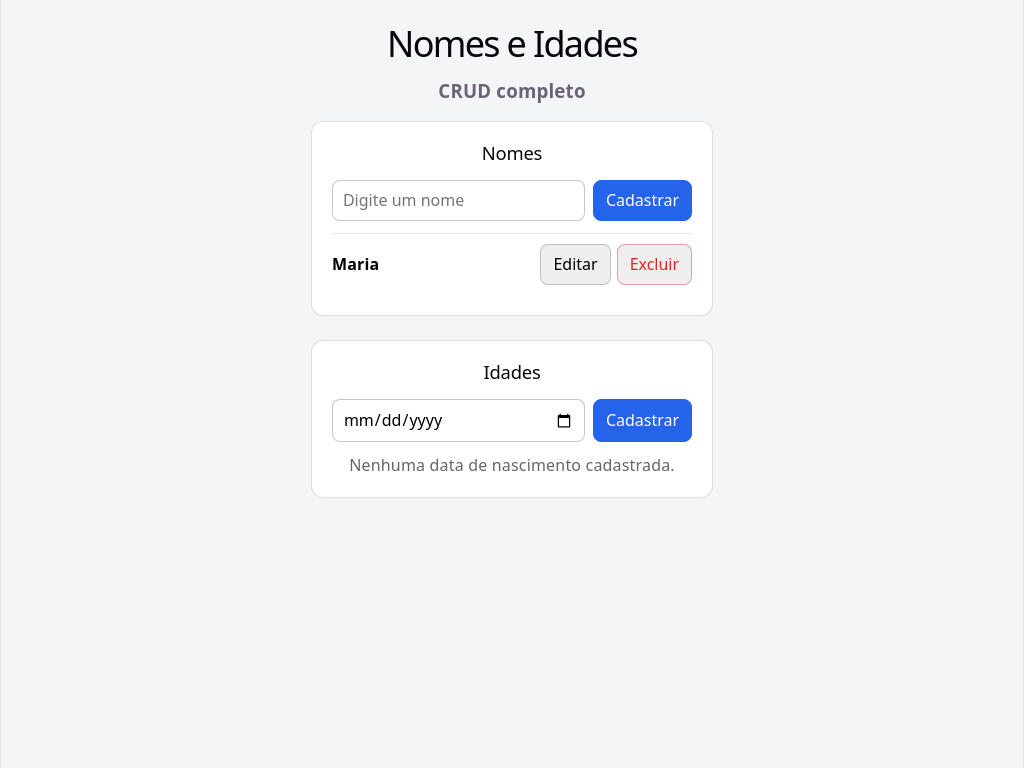
Scenario: nomes (CRUD) › edita um nome
Expected: the text "Maria" is shown, [332,253,379,276]
Step 1. Click the button "Editar" → (576, 265), box [540,244,611,285]
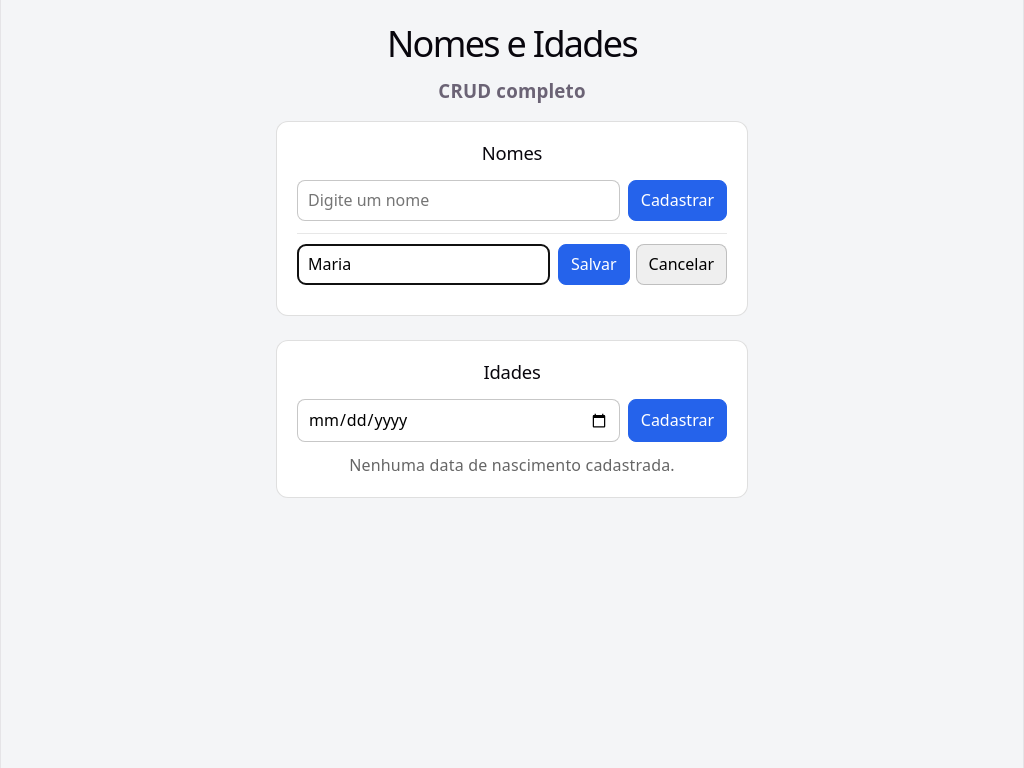
Now the field named "Editar valor" holds "Maria"
Step 2. Replace the text in the field named "Editar valor" with "Mariana" → (424, 265), box [297,244,550,285]
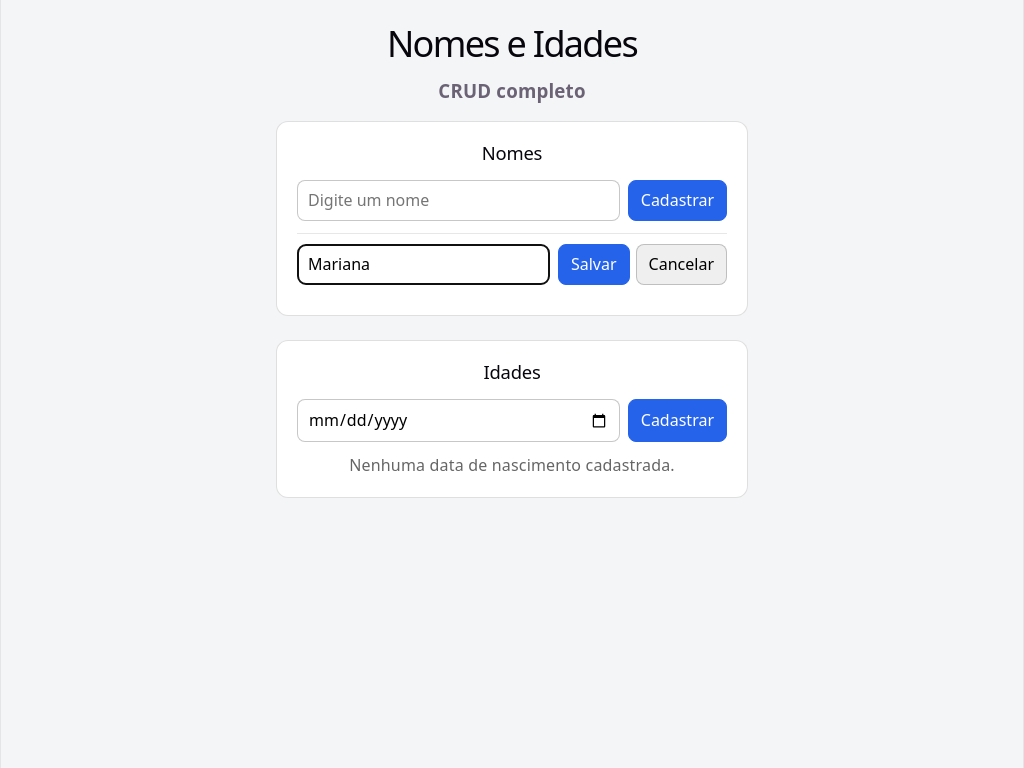
Step 3. Click the button "Salvar" → (594, 265), box [558,244,630,285]
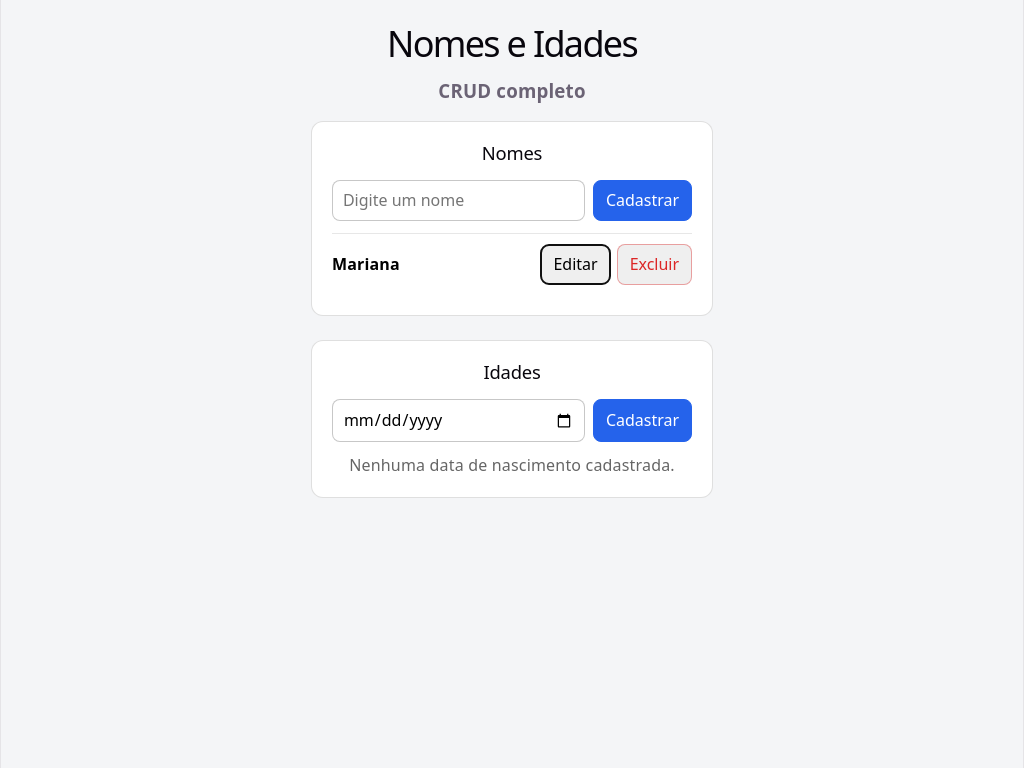
Now the text "Mariana" is shown, box [332,253,400,276]
